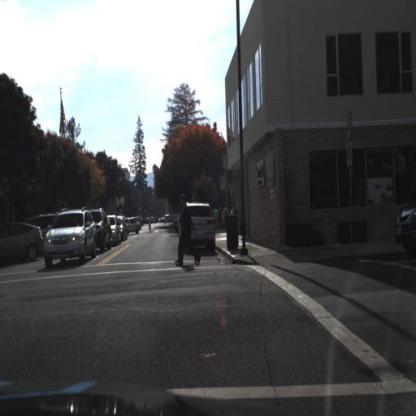car: (44, 208, 95, 265), (388, 184, 416, 257), (179, 200, 217, 250), (2, 218, 44, 258), (125, 215, 142, 234)
pedestrian: (178, 199, 195, 273), (175, 200, 187, 270)
